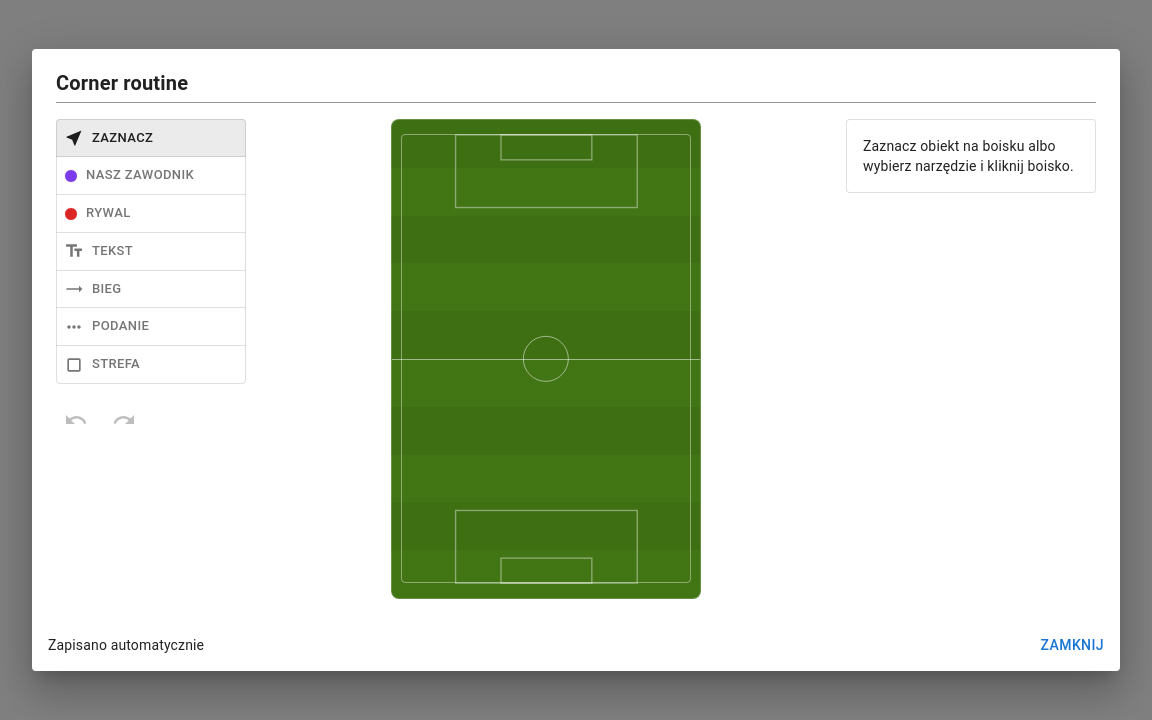
Test: placing objects › draws a Bieg arrow by dragging
Click the button "Bieg". click: [151, 289]
box: [56,270,246,308]
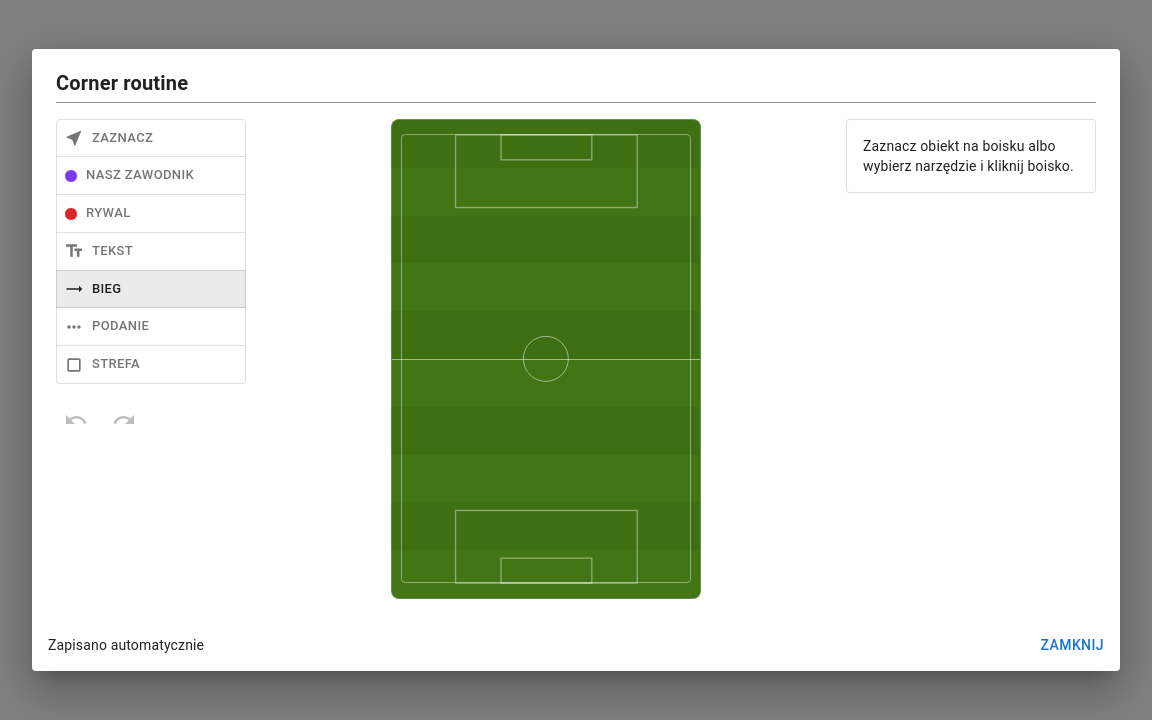
Press the mouse on the 1st icon at [546, 359], box [392,120,700,598]
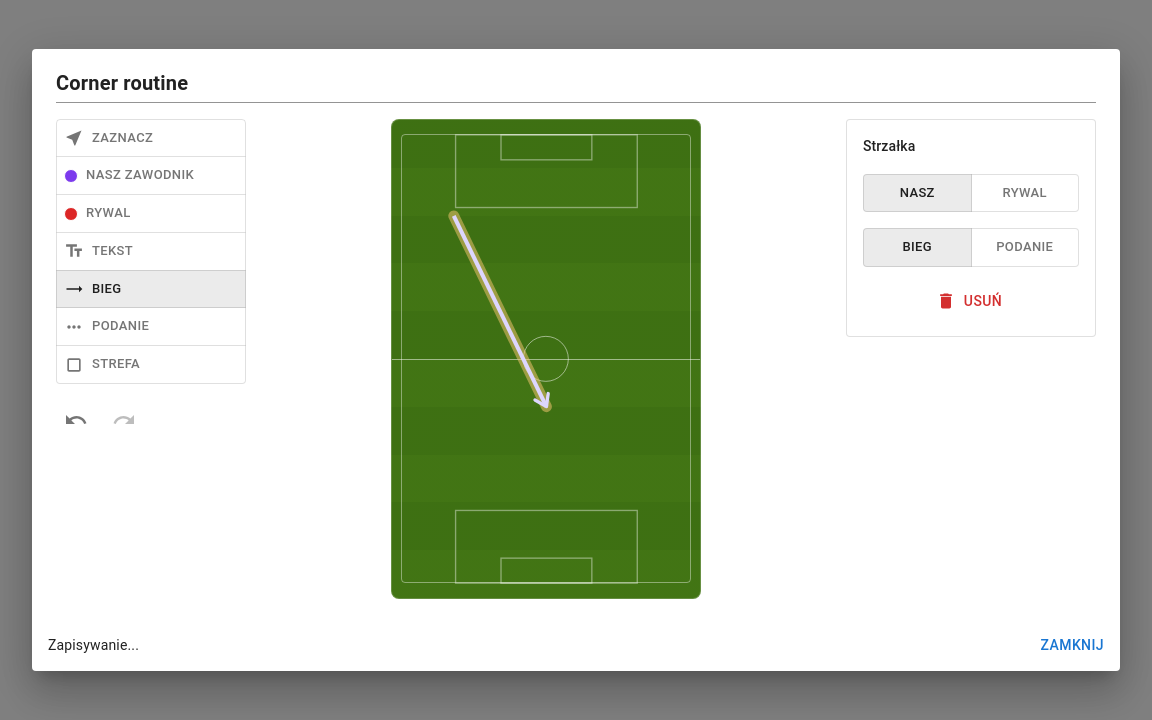
Now the heading "Strzałka" is shown, box [863,138,915,154]
